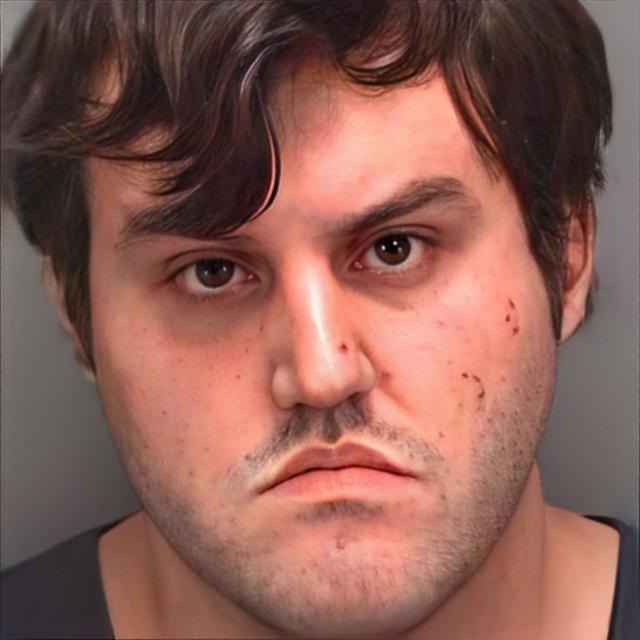anger: (100, 52, 546, 638)
